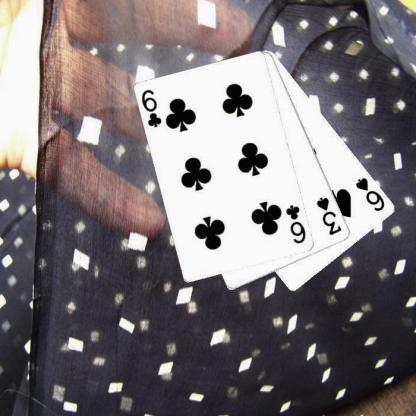3S: (314, 195, 343, 236)
6C: (284, 203, 308, 245), (139, 87, 163, 129)
6S: (353, 174, 386, 212)
